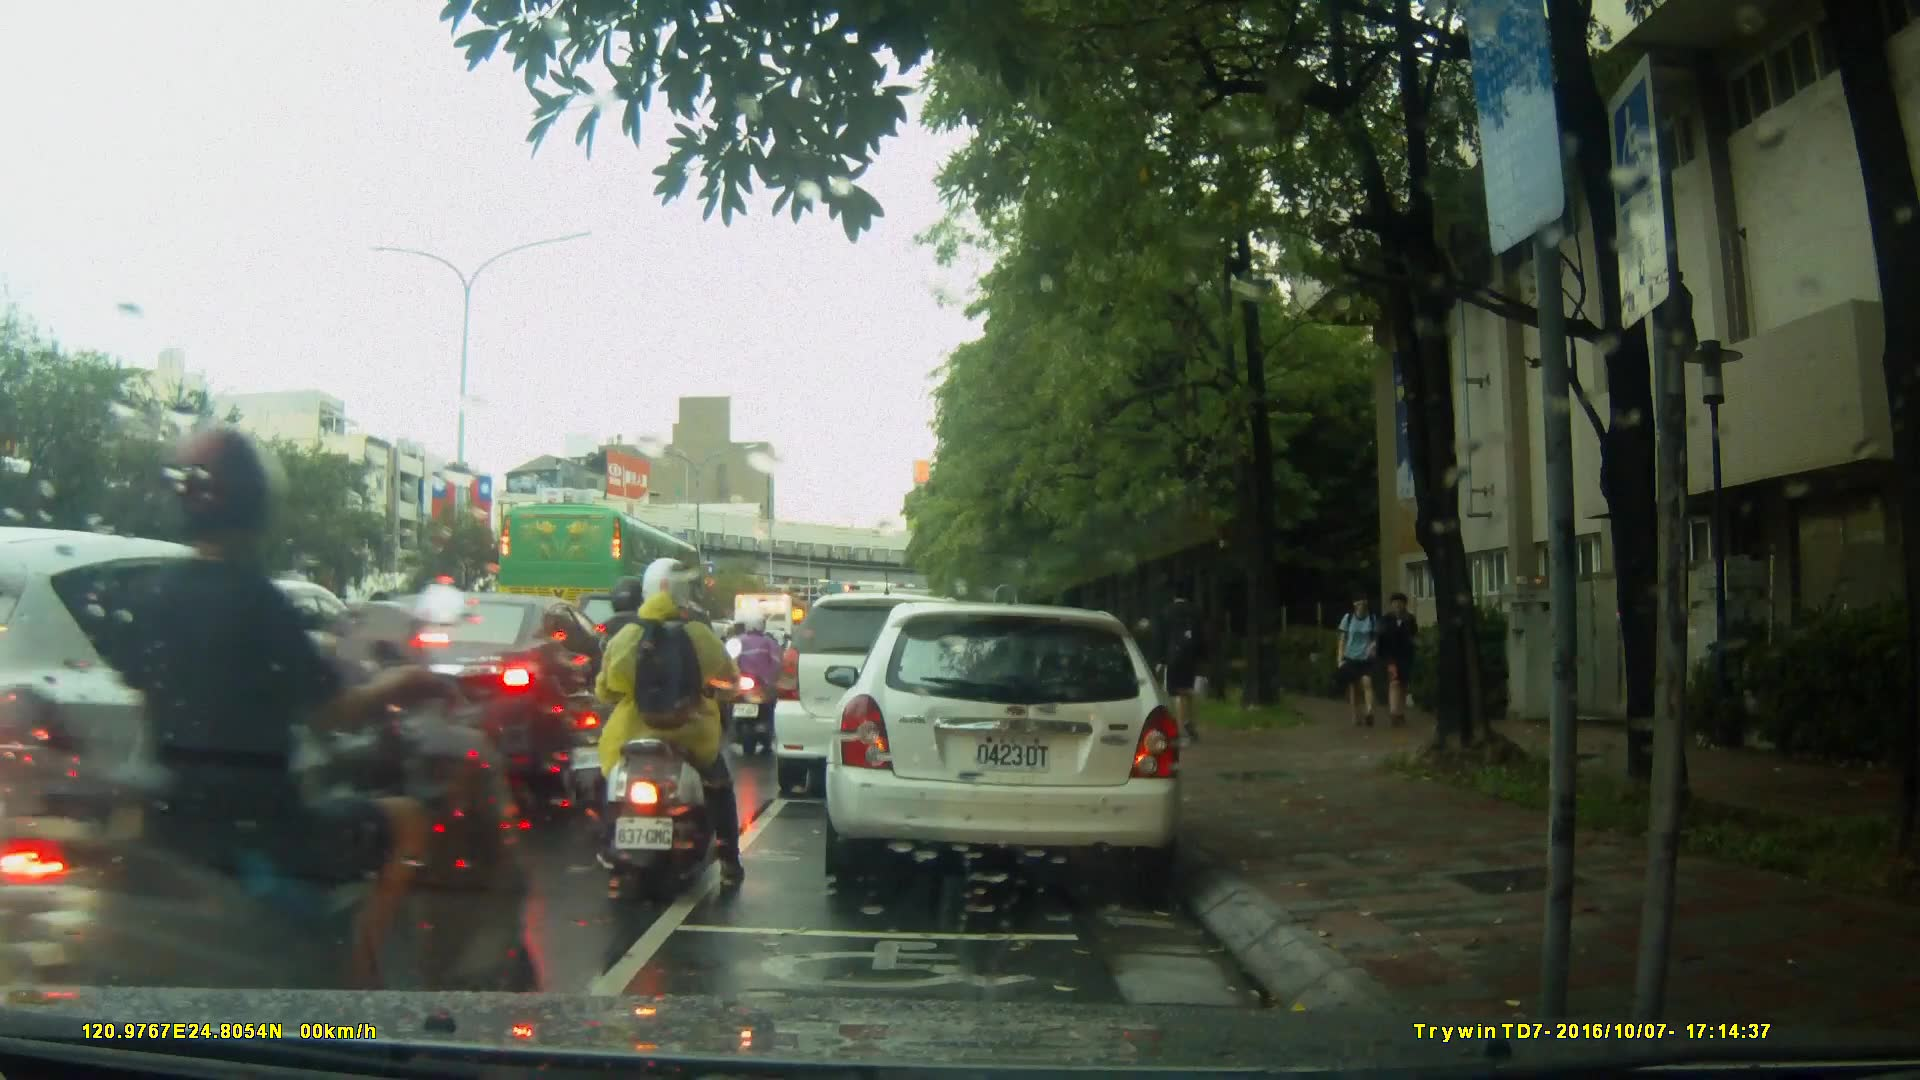pedestrian: (1153, 585, 1210, 751), (1327, 586, 1381, 736), (1376, 585, 1417, 732)
rider: (1, 416, 527, 1080), (598, 557, 752, 882), (569, 586, 686, 822), (730, 609, 792, 758)
vehicle: (1, 524, 432, 986), (831, 592, 1196, 897), (315, 593, 660, 801), (770, 592, 999, 800), (495, 502, 708, 640)
